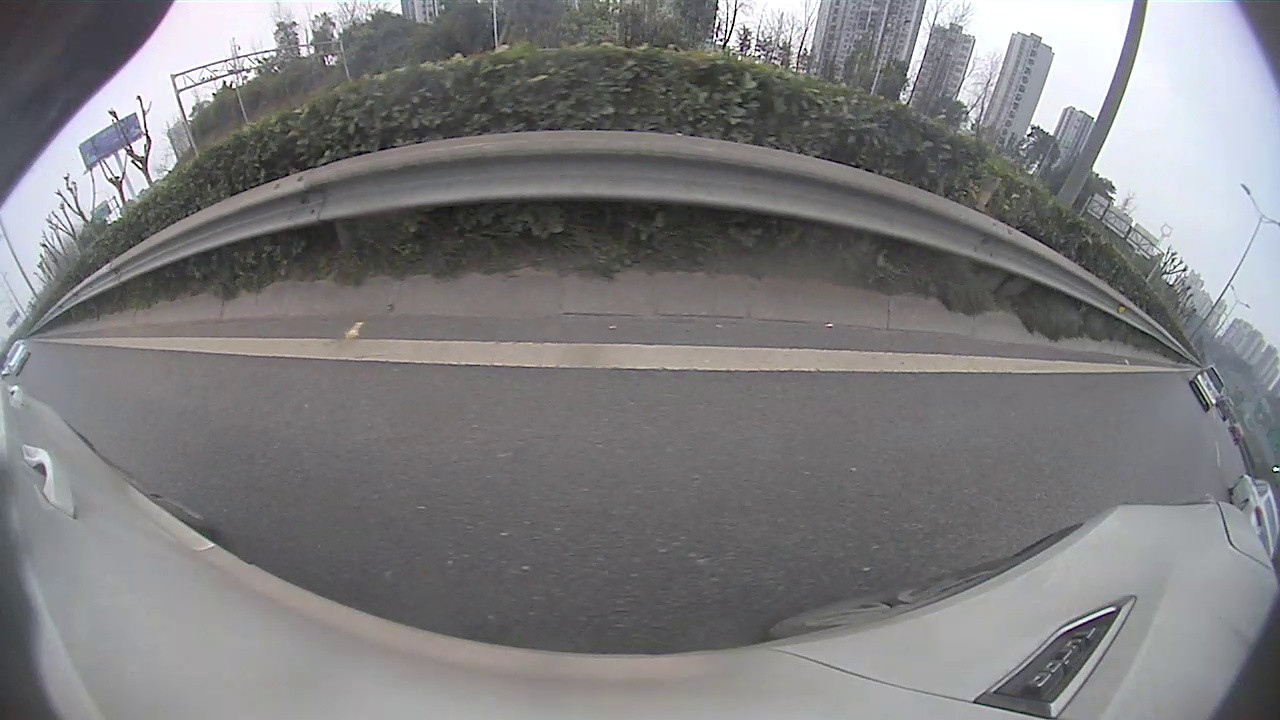car: (1227, 471, 1279, 558), (1189, 366, 1223, 410), (4, 341, 30, 377)
